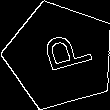P_W: (29, 31, 91, 80)
